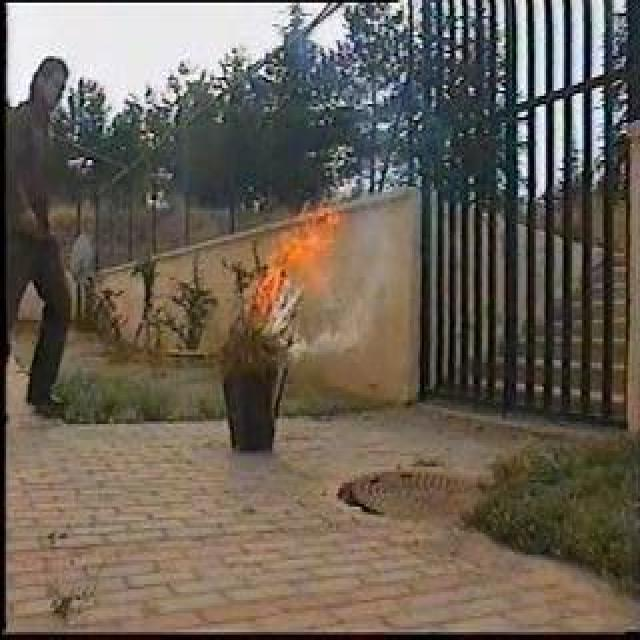Fire: (250, 200, 333, 317)
